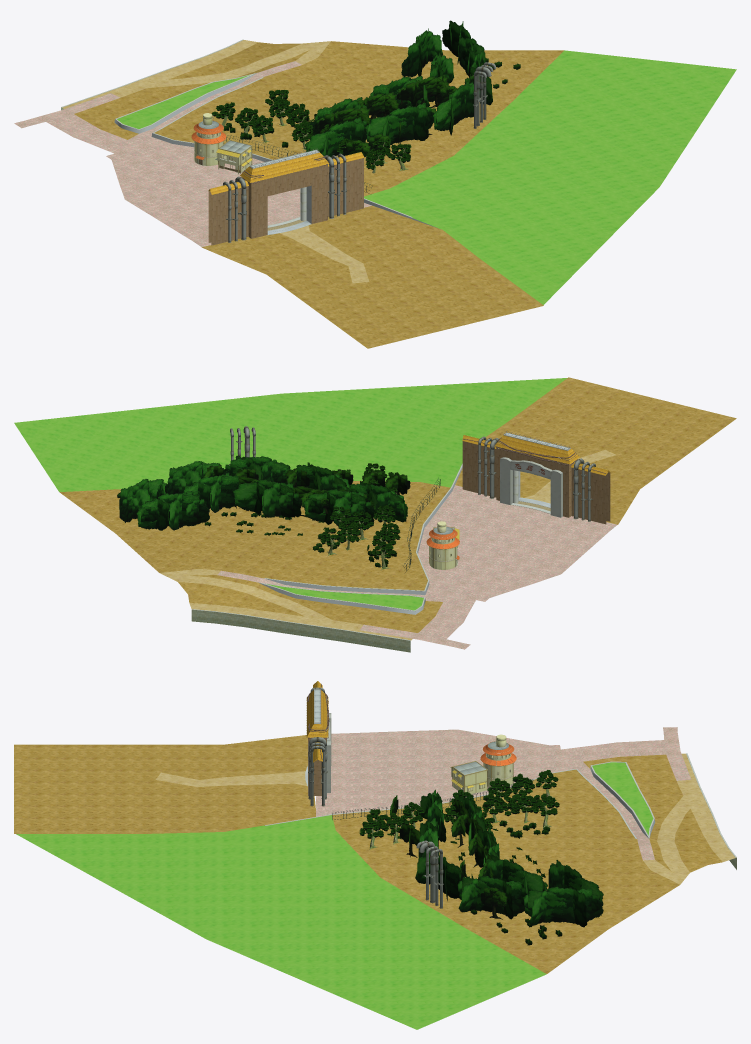
The picture shows the model from 3 angles, top to bottom: view 1: azimuth 30°, elevation 25°; view 2: azimuth 150°, elevation 25°; view 3: azimuth 270°, elevation 25°; orthographic projection. The views are drawn at different scales.
Visible parts, largest first — view 1: sa00eeflo000_001, sa00ffobj01_001, ki006_00_001, ki006_09_001, ha005_10_001, sa00eeobj02_001; view 2: sa00eeflo000_001, ki006_00_001, sa00ffobj01_001, ha005_10_001, ki006_09_001, sa00eeobj02_001, ha003_09_001; view 3: sa00eeflo000_001, ki006_00_001, sa00ffobj01_001, ha005_10_001, ki006_09_001, sa00eeobj02_001, ha003_09_001.
Boxes of the visible parts, left/top/right/bottom form: sa00eeflo000_001: left=14, top=39, right=736, bottom=348; sa00ffobj01_001: left=191, top=62, right=496, bottom=245; ki006_00_001: left=305, top=20, right=492, bottom=157; ki006_09_001: left=315, top=63, right=483, bottom=164; ha005_10_001: left=211, top=90, right=411, bottom=169; sa00eeobj02_001: left=194, top=113, right=251, bottom=172; sa00eeflo000_001: left=14, top=377, right=736, bottom=652; ki006_00_001: left=119, top=455, right=407, bottom=530; sa00ffobj01_001: left=229, top=426, right=610, bottom=569; ha005_10_001: left=320, top=463, right=404, bottom=558; ki006_09_001: left=203, top=465, right=410, bottom=520; sa00eeobj02_001: left=429, top=521, right=457, bottom=569; ha003_09_001: left=117, top=492, right=328, bottom=541; sa00eeflo000_001: left=14, top=689, right=736, bottom=1029; ki006_00_001: left=415, top=789, right=603, bottom=927; sa00ffobj01_001: left=305, top=681, right=516, bottom=908; ha005_10_001: left=359, top=770, right=559, bottom=838; ki006_09_001: left=390, top=795, right=507, bottom=919; sa00eeobj02_001: left=451, top=734, right=513, bottom=793; ha003_09_001: left=387, top=826, right=562, bottom=945.
Size of the model in its own units: 255 by 33.01 by 257.
27 materials, 27 textured.
